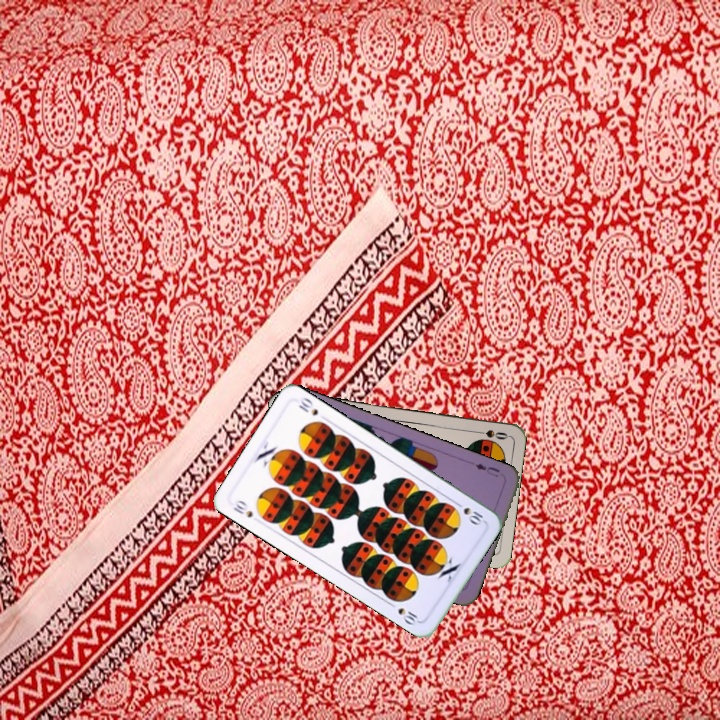EU: (471, 459, 502, 480)
S10: (451, 497, 487, 528), (229, 496, 255, 520)
SO: (470, 426, 510, 442)
